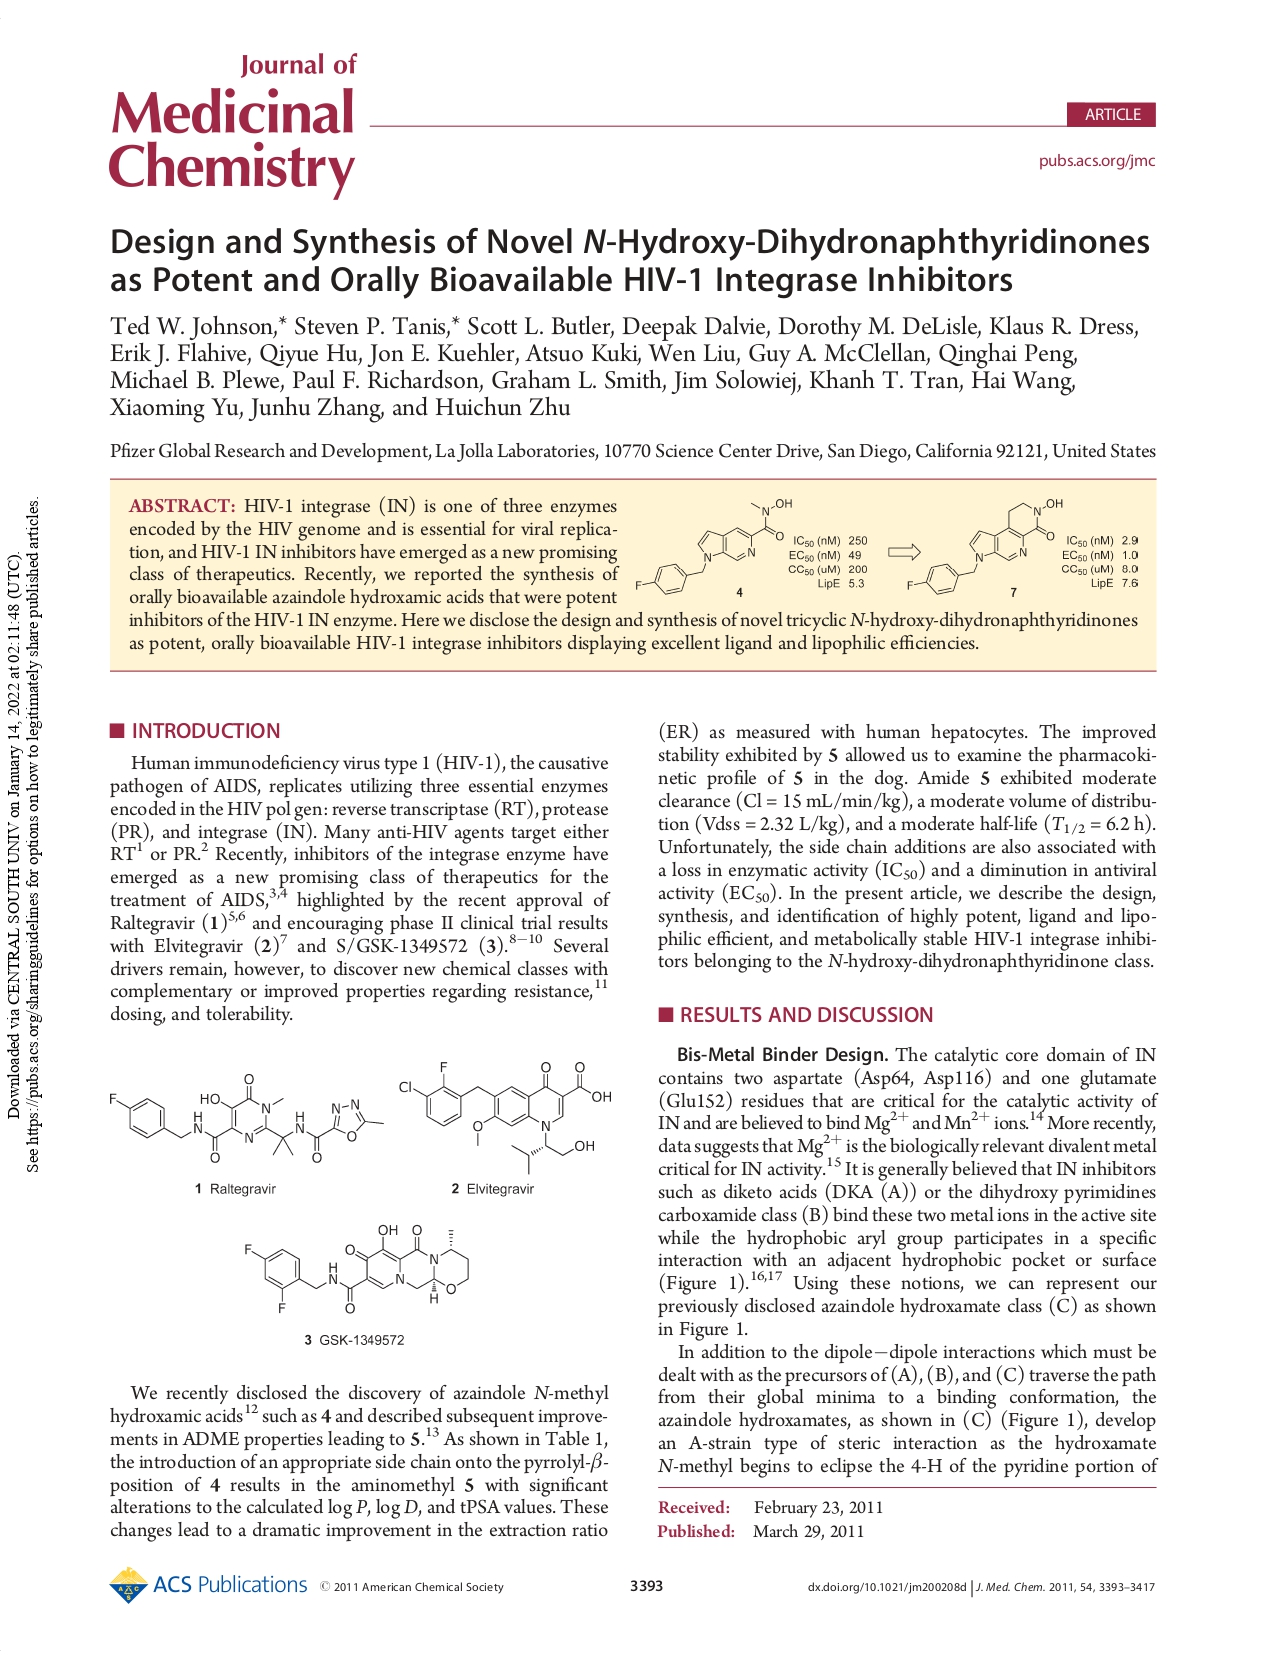exist_molecular: (104, 1071, 386, 1168), (398, 1059, 614, 1177), (239, 1218, 473, 1315), (903, 493, 1067, 598), (633, 493, 794, 598)
